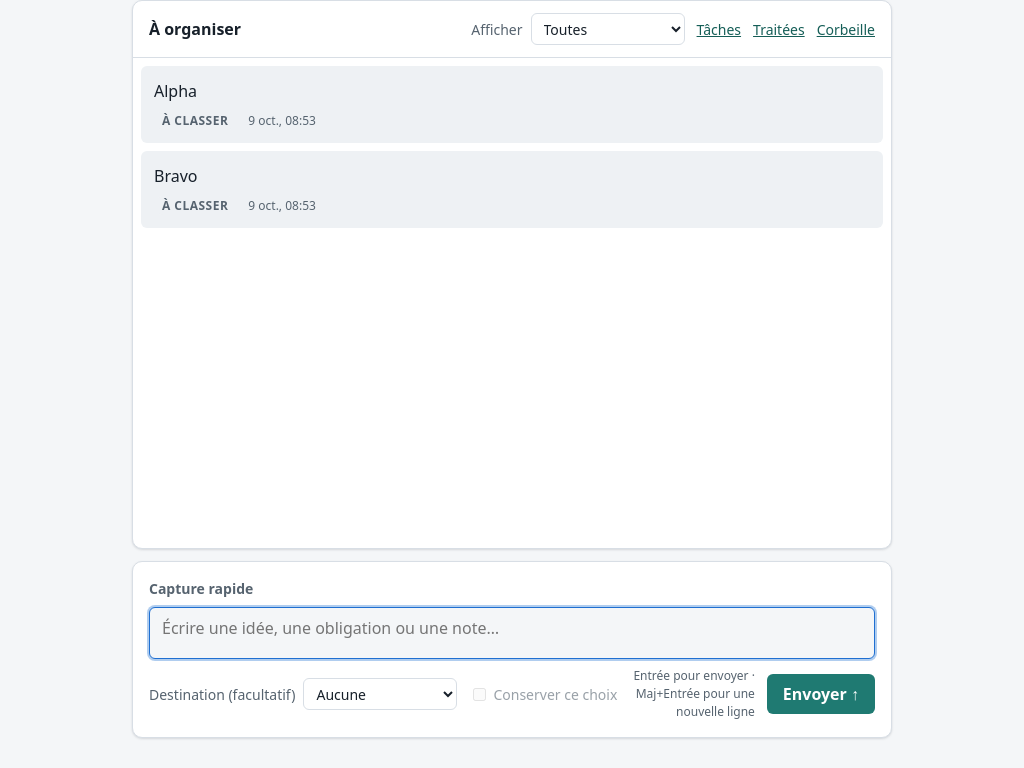
C. réponse tardive de corbeille › la mise à la corbeille de A ne ferme pas la fiche B ni son brouillon
Click the button "Alpha À classer 9 oct., 08:53" at (176, 91), box [142,67,882,142]
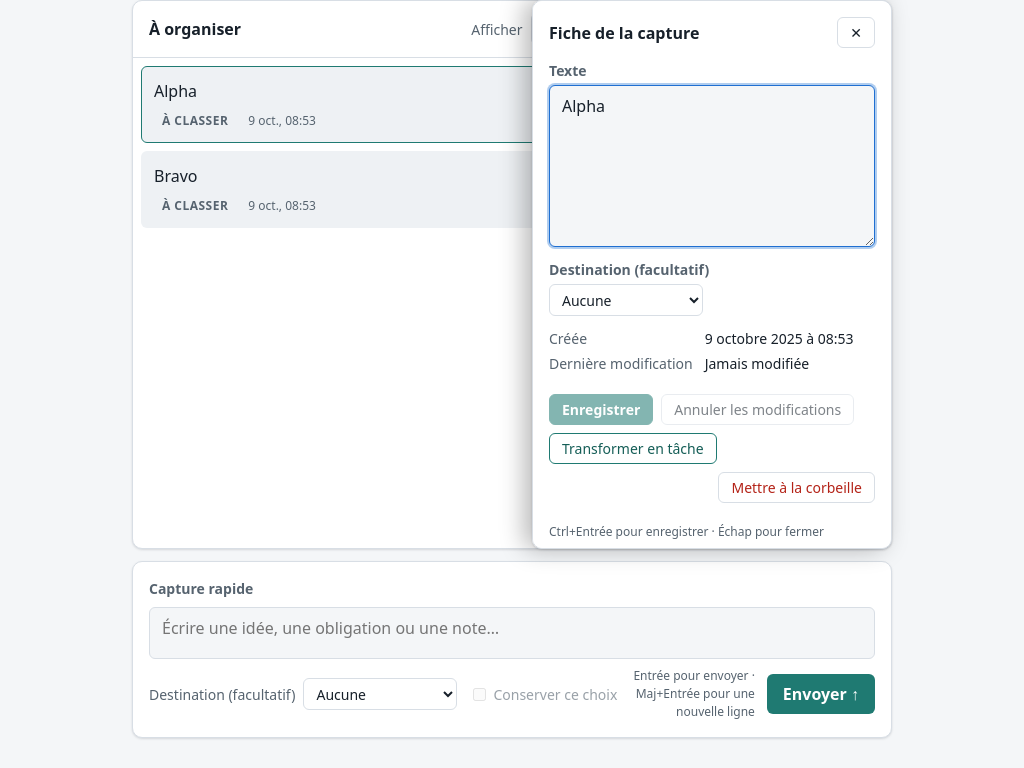
Click the button "Mettre à la corbeille" at (797, 488), box [718,472,875,503]
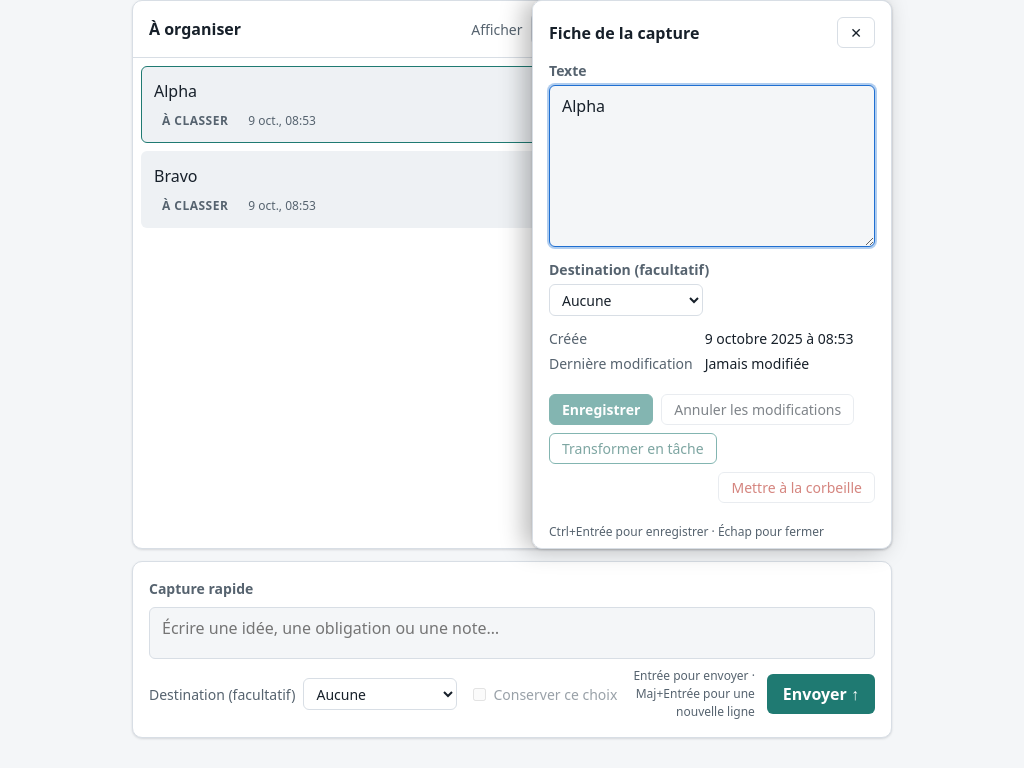
Click the button "Bravo À classer 9 oct., 08:53" at (176, 176), box [142,152,882,227]
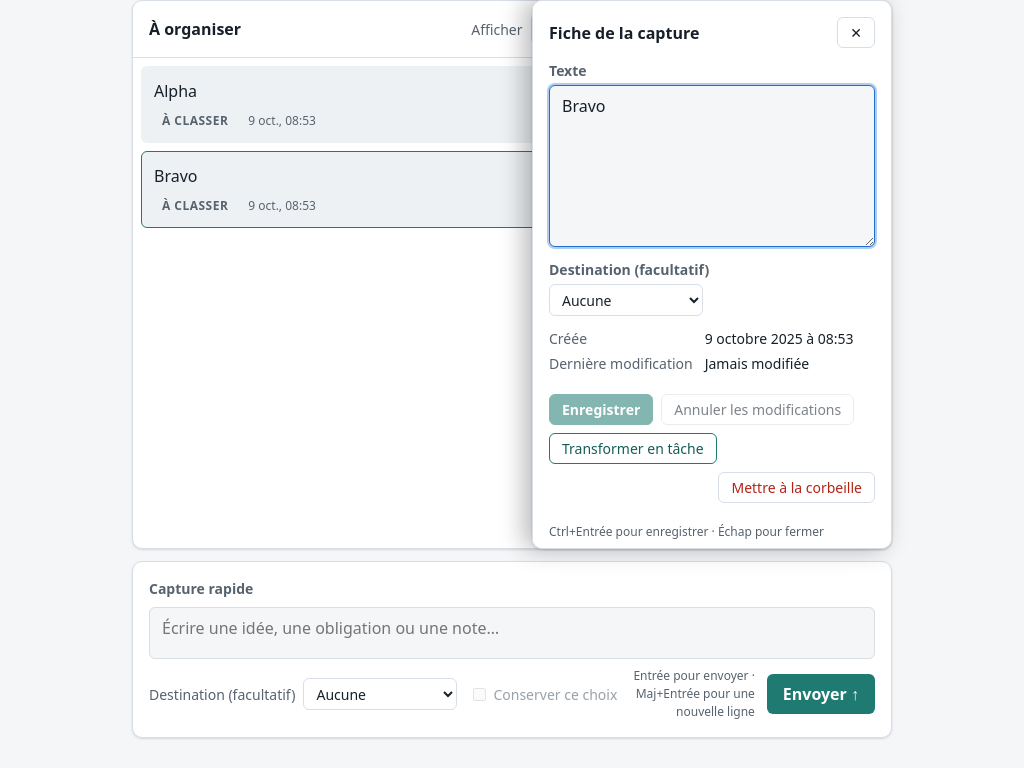
Check: the text box labelled "Texte" holds "Bravo"
Replace the text in the text box labelled "Texte" with "Brouillon de Bravo" at (712, 166), box [549,85,875,247]
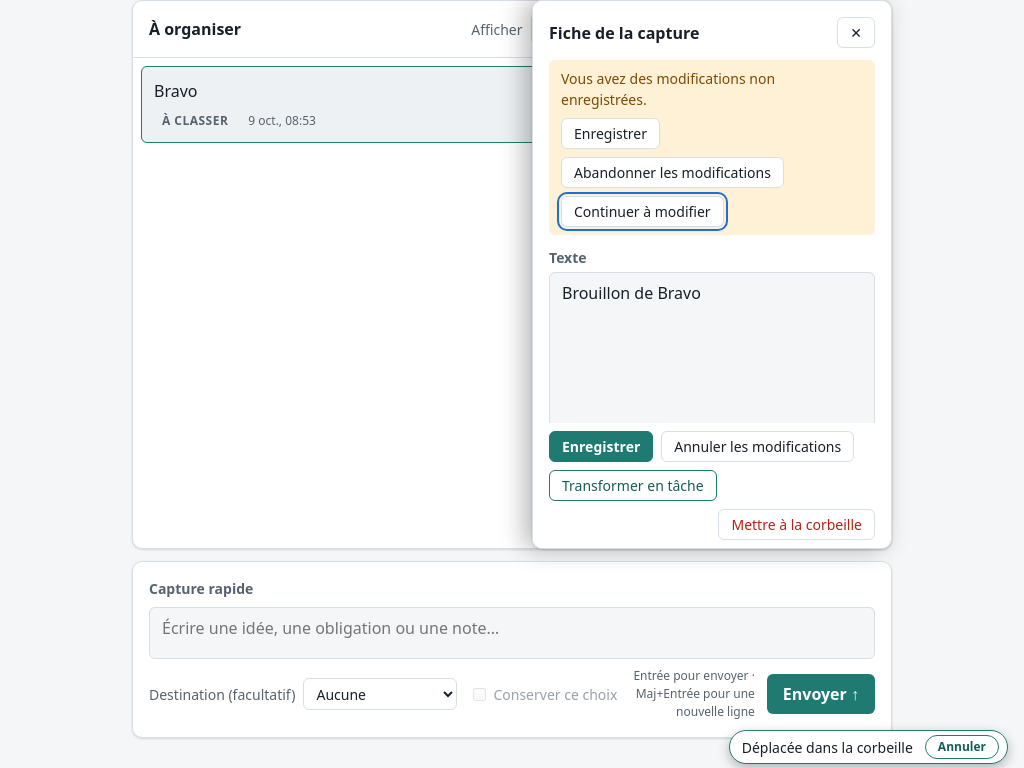
Check: the text "Déplacée dans la corbeille" is shown, box [742,737,913,758]
